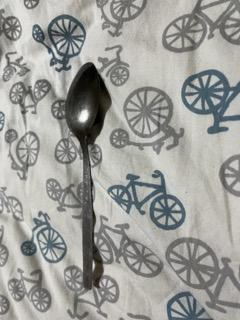spoon: (63, 63, 104, 292)
